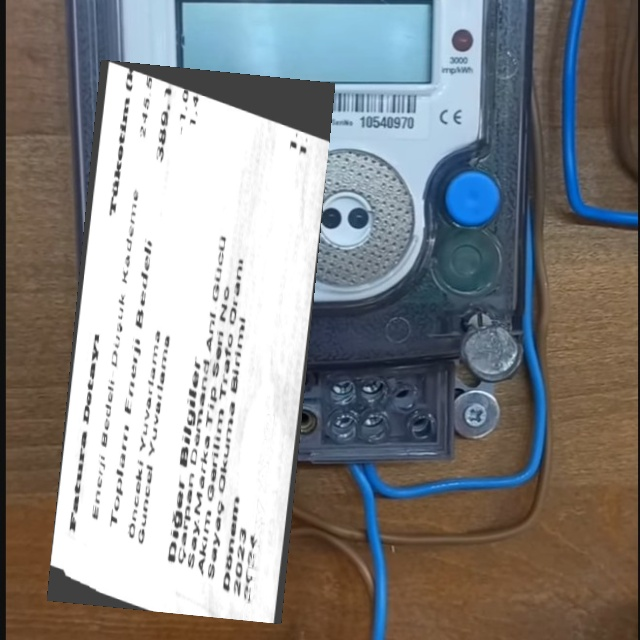electricity-bill: (46, 60, 334, 624)
